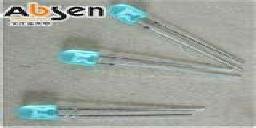LED: (57, 49, 232, 80), (110, 4, 187, 43), (14, 99, 65, 123)
